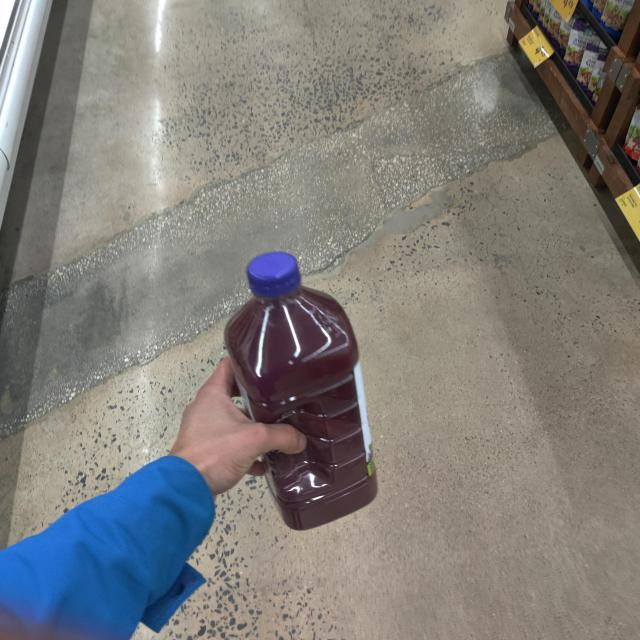Juice: (225, 233, 395, 528)
